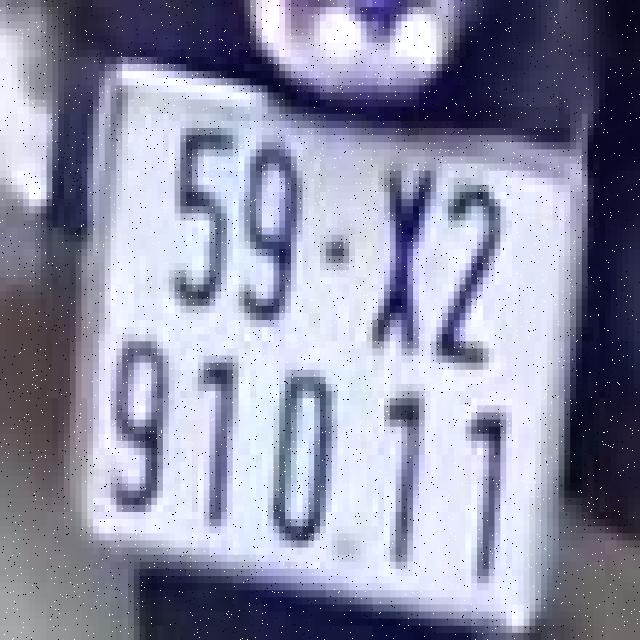0: (265, 362, 340, 562)
1: (195, 345, 259, 544), (375, 370, 428, 576), (460, 394, 512, 586)
2: (436, 171, 506, 391)
5: (160, 107, 241, 320)
9: (96, 327, 177, 541), (230, 132, 305, 330)
X: (355, 153, 436, 359)
